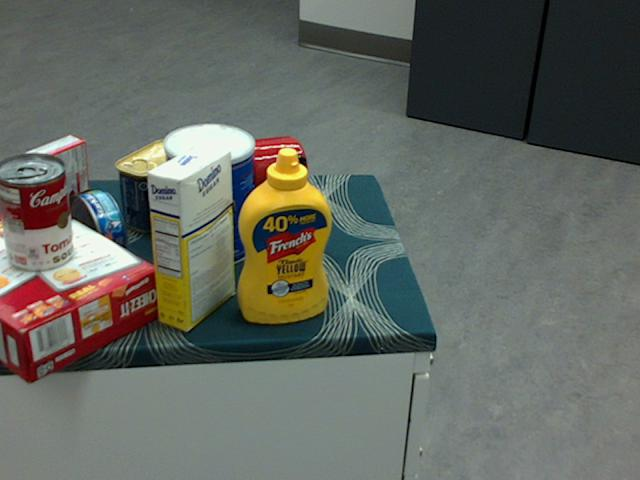cracker_box: (0, 196, 161, 382)
gelatin_box: (18, 134, 88, 212)
large_marker: (291, 154, 306, 247)
master_chef_can: (161, 122, 252, 268)
mug: (224, 135, 306, 207)
mustard_bottle: (237, 145, 332, 322)
potted_meat_can: (114, 137, 190, 232)
sugar_box: (145, 143, 235, 330)
tomato_soup_can: (0, 153, 73, 271)
tuna_fish_can: (64, 189, 125, 267)
